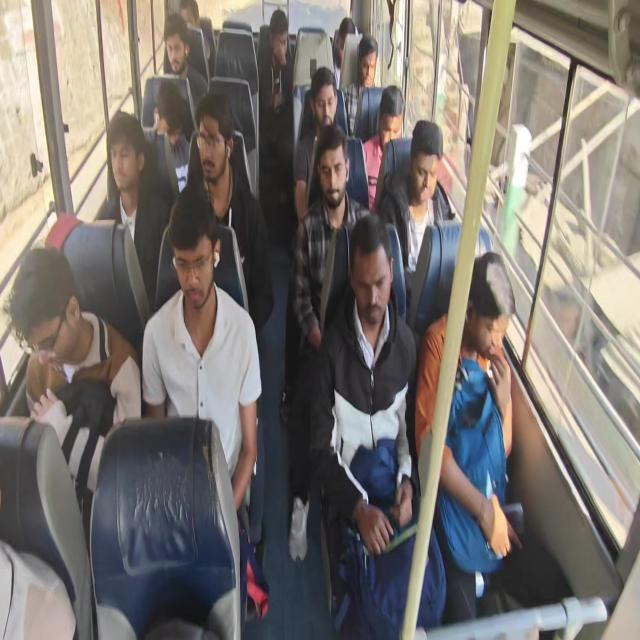person: (5, 4, 566, 637), (415, 250, 572, 638), (309, 213, 447, 638), (4, 244, 141, 545), (141, 190, 262, 516), (284, 123, 372, 562), (170, 91, 274, 334), (98, 109, 172, 316), (378, 119, 447, 275), (292, 66, 348, 224), (258, 8, 294, 241), (162, 13, 208, 141), (362, 84, 404, 210), (150, 80, 190, 194), (259, 9, 293, 116), (342, 36, 378, 136), (179, 0, 215, 78), (332, 16, 358, 88)
